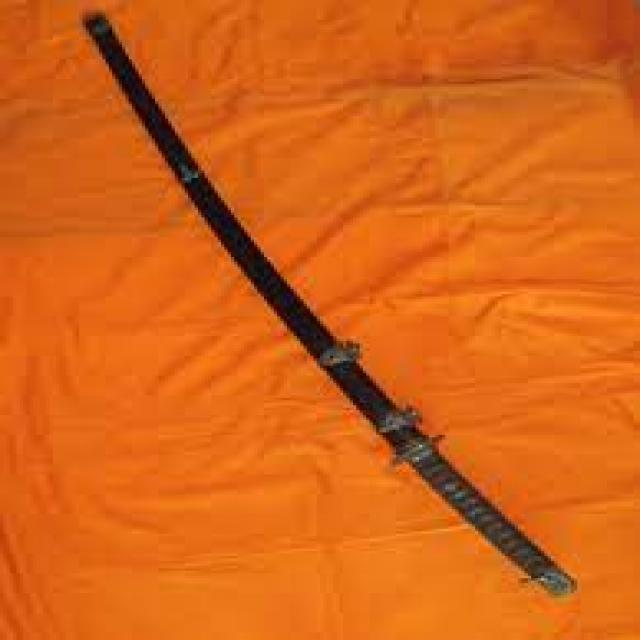long sword: (75, 4, 586, 598)
